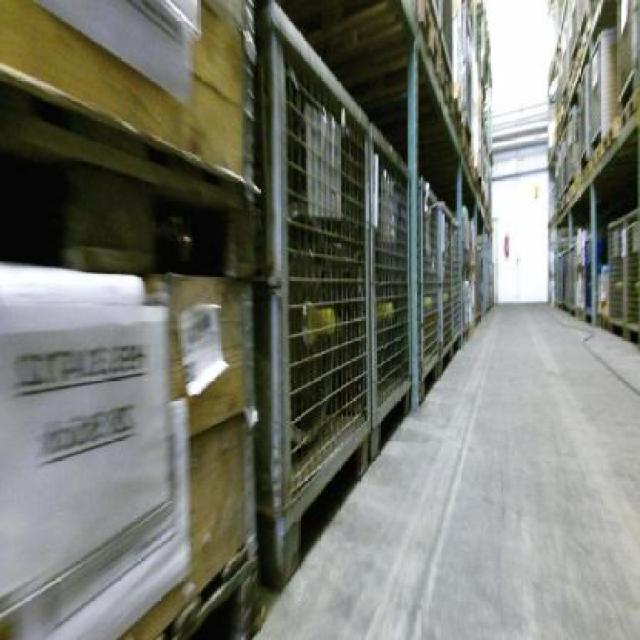pallet: (600, 308, 640, 349)
